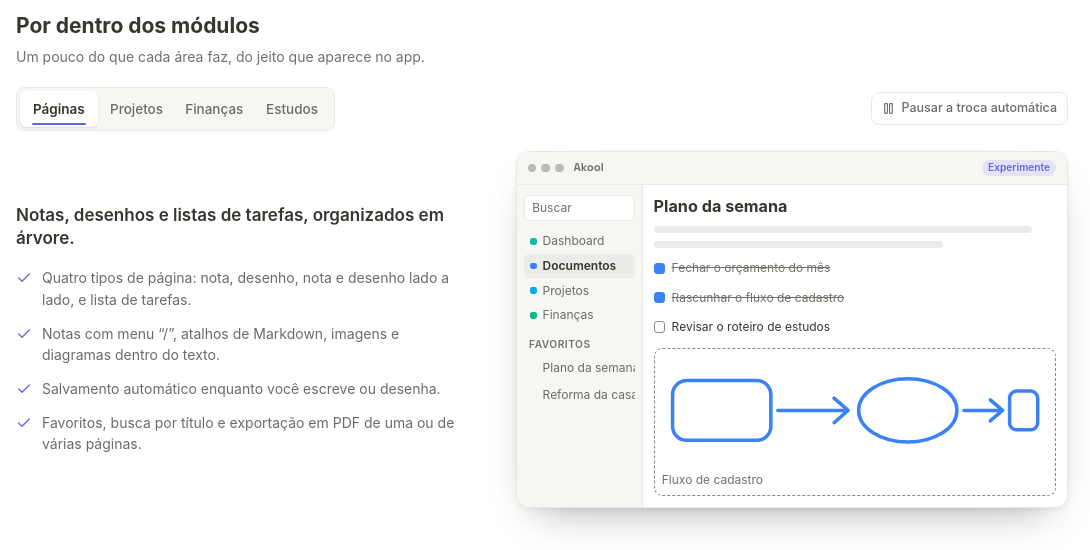
Test: LandingShowcase: a prévia é uma demonstração › mexer na prévia (marcar uma tarefa) pausa a troca automática
This screenshot has width=1090, height=550.
Click the checkbox labelled "Revisar o roteiro de estudos".
click(742, 326)  # box [654, 319, 830, 334]
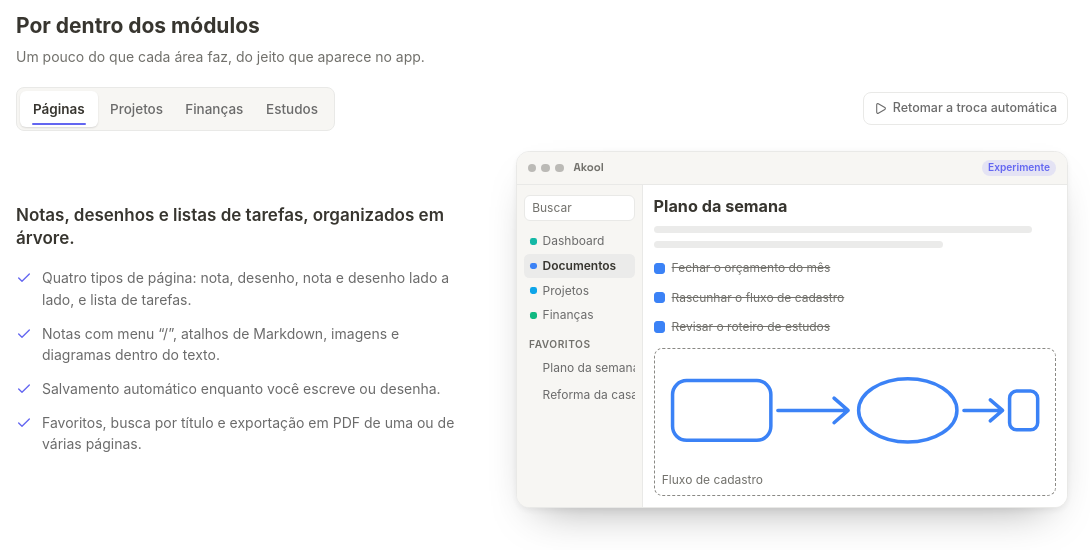
Expected: the button "Retomar a troca automática" is shown, [863, 92, 1068, 125]
